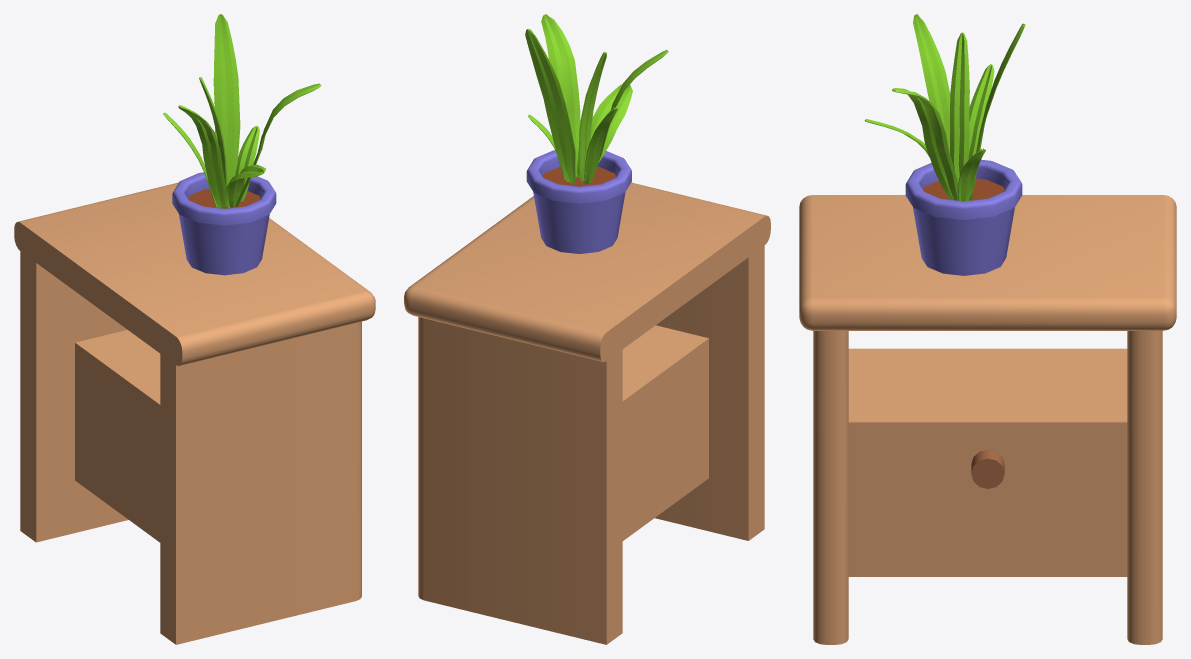
Rendered from 03_Bed Table.fbx.
3 renders of one model, left to right at view 1: azimuth 30°, elevation 25°; view 2: azimuth 150°, elevation 25°; view 3: azimuth 270°, elevation 25°, orthographic. The views are drawn at different scales.
Visible parts, largest first — view 1: Cube.104, Cube.103, Plane.017, Circle.044, Cylinder.041; view 2: Cube.104, Cube.103, Plane.017, Circle.044, Cylinder.041; view 3: Plane.017, Cube.103, Cube.104, Cylinder.041, Circle.044, Cylinder.042.
Part boxes in pixels (x1,y1,x2,y2): Cube.104: (20,251,361,644); Cube.103: (14,182,375,366); Plane.017: (75,330,160,542); Circle.044: (163,14,321,208); Cylinder.041: (172,172,276,275); Cube.104: (418,246,764,644); Cube.103: (404,182,770,361); Plane.017: (622,325,708,540); Circle.044: (525,14,668,184); Cylinder.041: (526,150,631,253); Plane.017: (848,348,1127,576); Cube.103: (799,195,1176,330); Cube.104: (813,331,1162,644); Cylinder.041: (905,159,1022,275); Circle.044: (865,14,1025,201); Cylinder.042: (971,449,1004,488).
Size of the model in its own units: 19.05 by 48.57 by 28.03.
